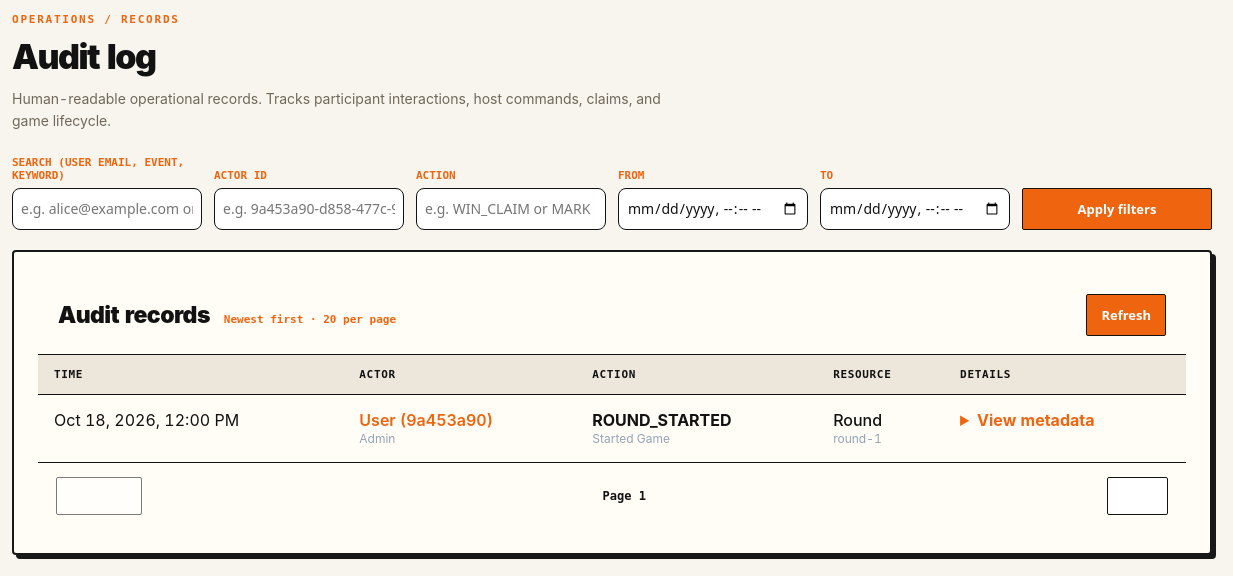
Test case: Admin audit log › follows and reverses the opaque backend cursor without constructing page offsets
Expected: the text "ROUND_STARTED" is shown, 592,410 -> 732,430
What coordinates should you click on to do the following:
click the button "Next"
I would click on:
 (1137, 496)
Its box is 1107,477 -> 1168,515.
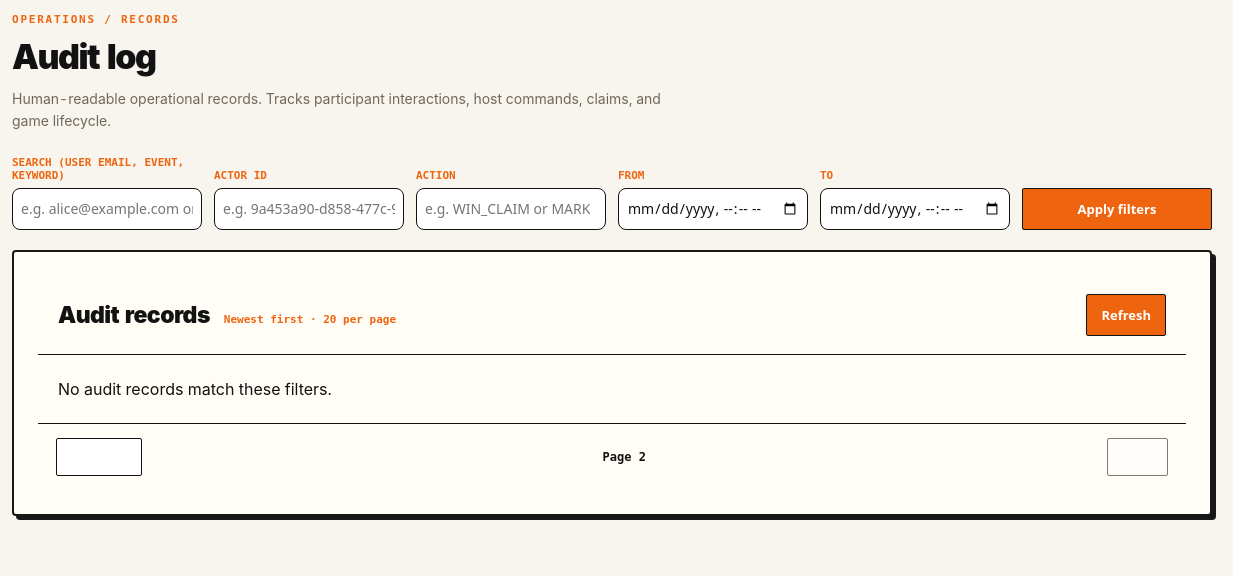
Now the text "No audit records match these filters." is shown, box 58,379 -> 332,399
What coordinates should you click on to do the following:
click the button "Previous"
I would click on:
 (99, 457)
Its box is 56,438 -> 142,476.
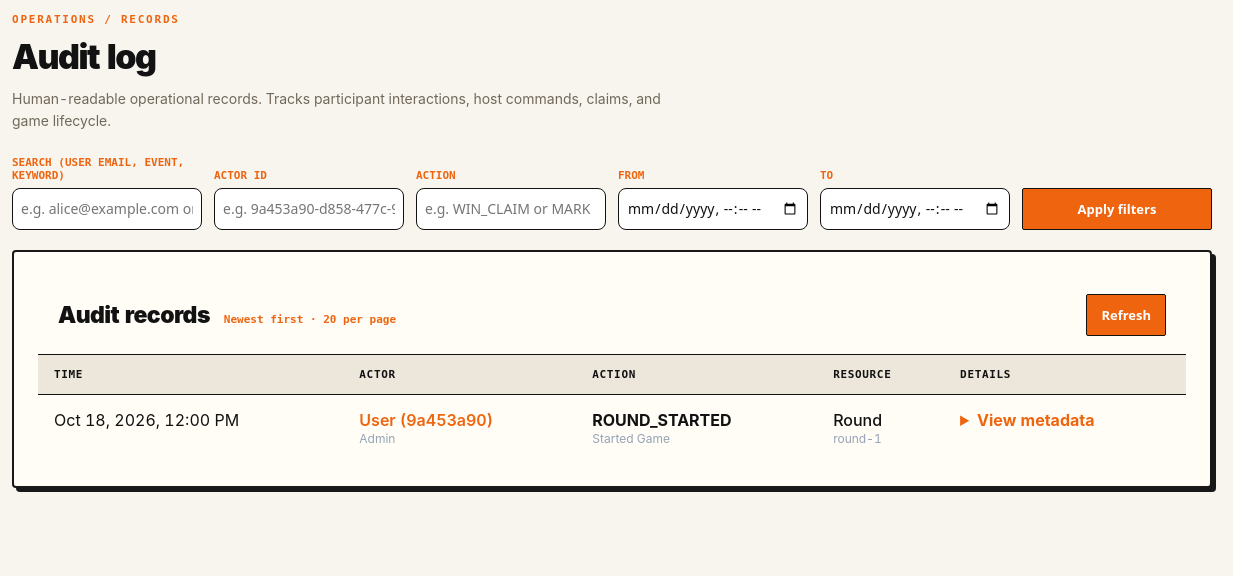
Now the text "ROUND_STARTED" is shown, box 592,410 -> 732,430
